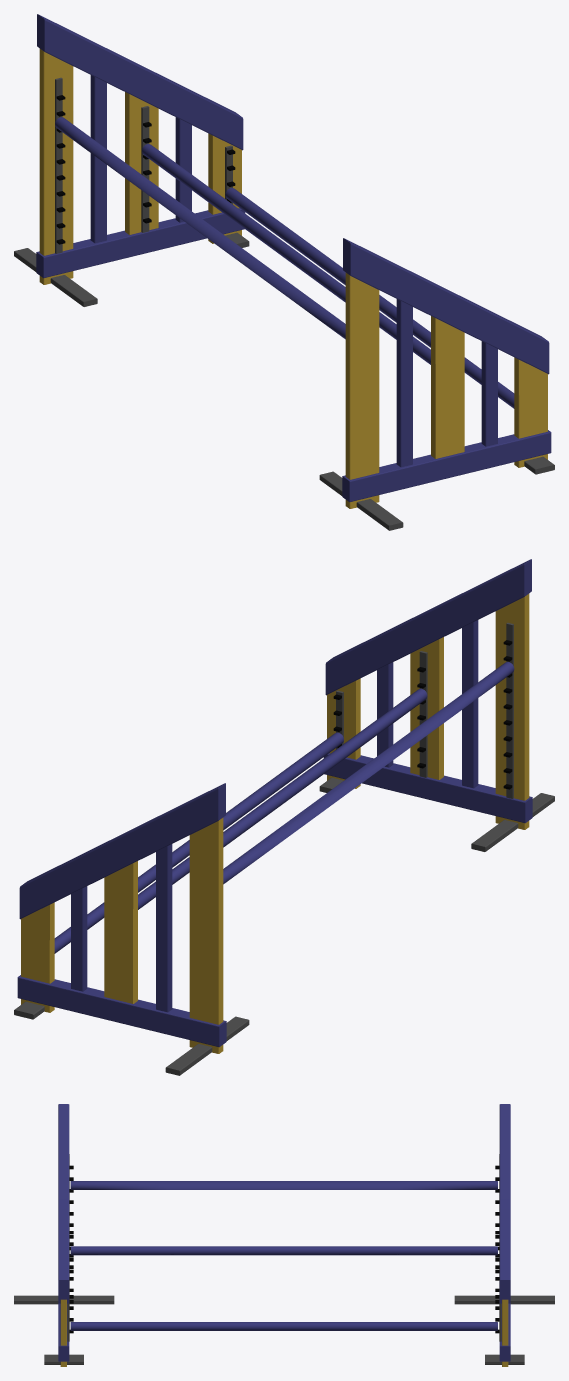
File: Jump Bar (Broken).fbx
3 views of the same model, one above another, from view 1: azimuth 30°, elevation 25°; view 2: azimuth 150°, elevation 25°; view 3: azimuth 270°, elevation 25° (orthographic). The views are drawn at different scales.
Parts seen in each view (by area): view 1: JumpBar (Broken), JumpBar (Broken).004, JumpBar (Broken).001, JumpBar (Broken).002, JumpBar (Broken).003; view 2: JumpBar (Broken).004, JumpBar (Broken), JumpBar (Broken).001, JumpBar (Broken).002, JumpBar (Broken).003; view 3: JumpBar (Broken).004, JumpBar (Broken), JumpBar (Broken).002, JumpBar (Broken).001, JumpBar (Broken).003.
Part boxes in pixels (x1=…): JumpBar (Broken): x1=319, y1=238, x2=554, y2=530; JumpBar (Broken).004: x1=14, y1=14, x2=249, y2=306; JumpBar (Broken).001: x1=55, y1=117, x2=345, y2=339; JumpBar (Broken).002: x1=142, y1=144, x2=430, y2=364; JumpBar (Broken).003: x1=225, y1=188, x2=514, y2=408; JumpBar (Broken).004: x1=14, y1=783, x2=249, y2=1075; JumpBar (Broken): x1=319, y1=559, x2=554, y2=851; JumpBar (Broken).001: x1=223, y1=662, x2=514, y2=884; JumpBar (Broken).002: x1=138, y1=688, x2=427, y2=909; JumpBar (Broken).003: x1=54, y1=732, x2=343, y2=953; JumpBar (Broken).004: x1=454, y1=1104, x2=554, y2=1366; JumpBar (Broken): x1=14, y1=1104, x2=114, y2=1366; JumpBar (Broken).002: x1=70, y1=1246, x2=497, y2=1255; JumpBar (Broken).001: x1=70, y1=1181, x2=497, y2=1189; JumpBar (Broken).003: x1=70, y1=1322, x2=497, y2=1330.
Size of the model in its own units: 51.73 by 65.52 by 167.
